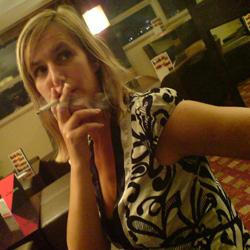cigarro: (32, 93, 64, 115)
fumador: (18, 9, 233, 248)
